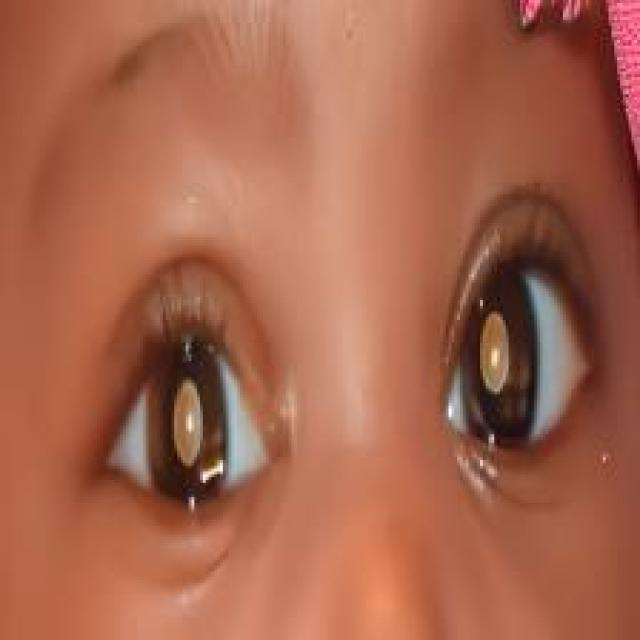reflexo-alterado: (76, 296, 294, 543), (424, 226, 598, 471)
